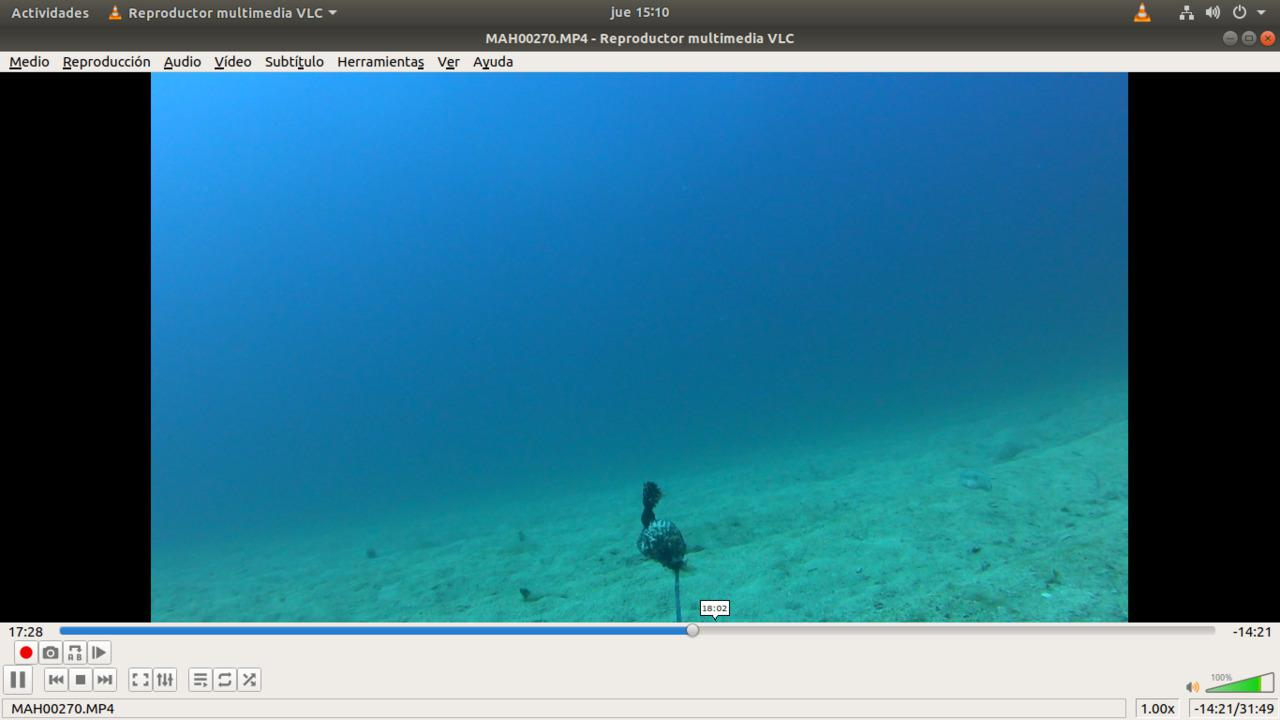raor: (949, 468, 1003, 503)
